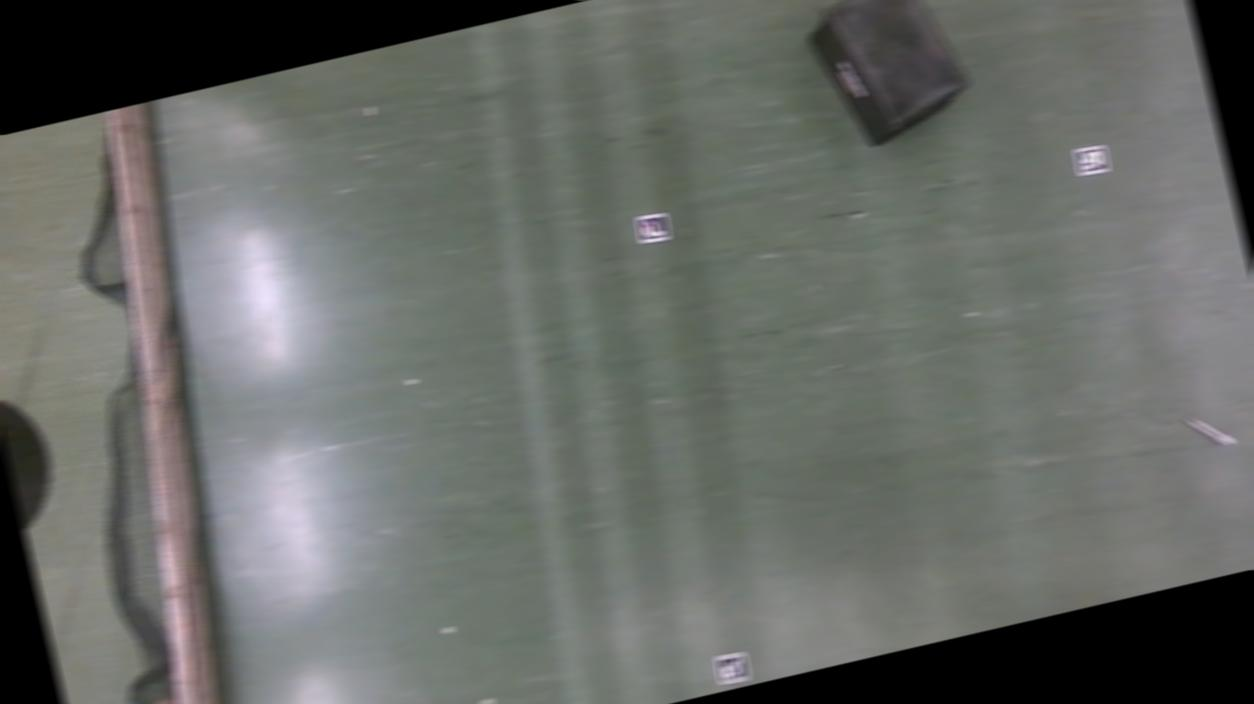probes: (1188, 408, 1238, 453)
rako: (794, 0, 982, 157)
